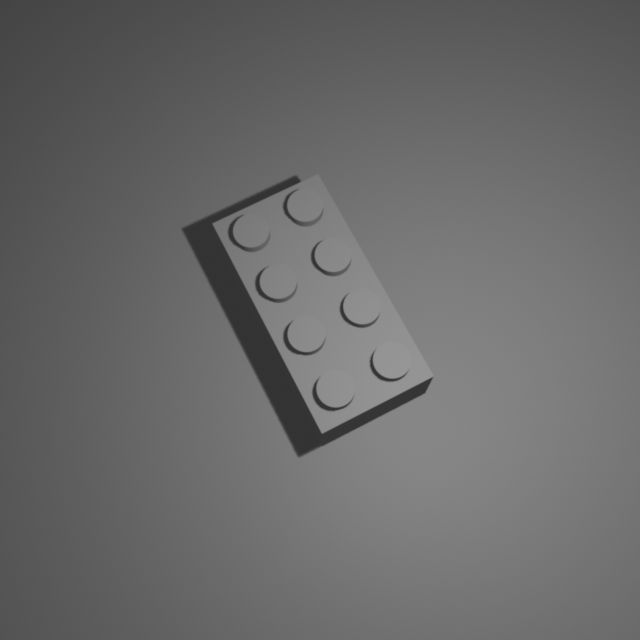lego_2x4: (211, 169, 435, 447)
